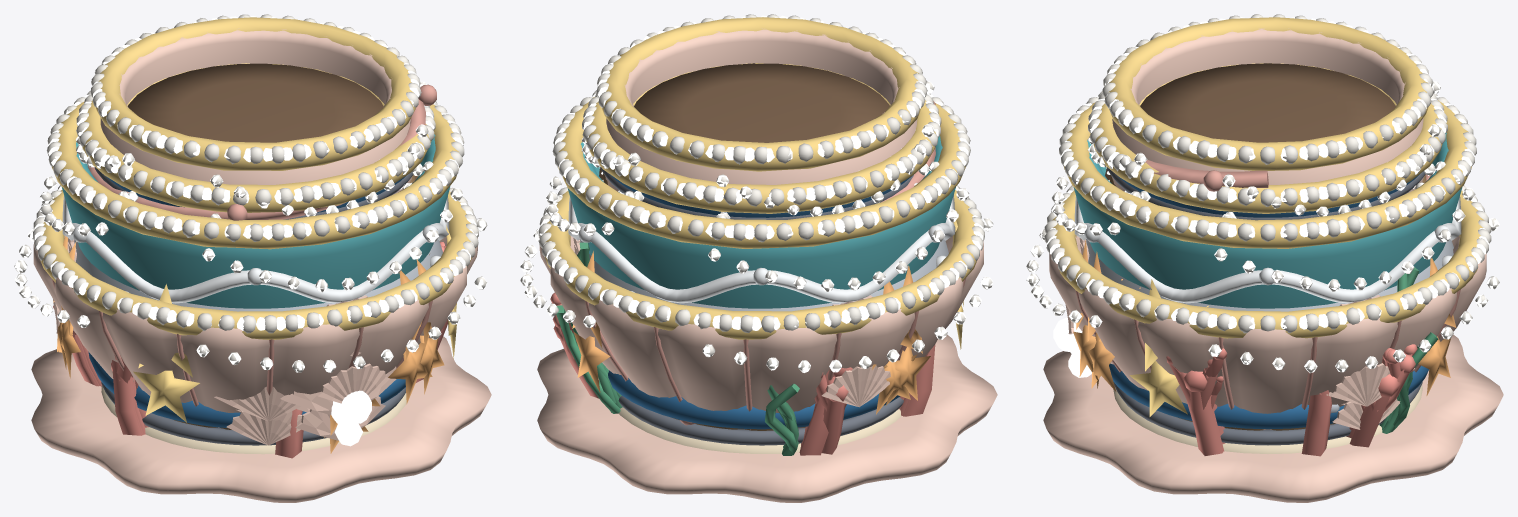
The model's file is chau-bien-ca.glb.
The picture shows the model from 3 angles, left to right: view 1: azimuth 30°, elevation 25°; view 2: azimuth 150°, elevation 25°; view 3: azimuth 270°, elevation 25°; orthographic projection.
Visible parts, largest first — view 1: ChauBien_6_Than, ChauBien_4_Than, ChauBien_1_Than, ChauBien_2_Than, ChauBien_2_Dat, ChauBien_1_Lv6, ChauBien_2_Lv6, ChauBien_4_Lv6, ChauBien_3_Lv6, ChauBien_1_Lv4, ChauBien_4_Lv4, ChauBien_4_Lv5 (+13 smaller); view 2: ChauBien_6_Than, ChauBien_4_Than, ChauBien_1_Than, ChauBien_2_Dat, ChauBien_2_Lv6, ChauBien_2_Than, ChauBien_4_Lv6, ChauBien_1_Lv6, ChauBien_3_Lv6, ChauBien_1_Lv4, ChauBien_1_Lv5, ChauBien_5_Than (+11 smaller); view 3: ChauBien_6_Than, ChauBien_4_Than, ChauBien_1_Than, ChauBien_2_Dat, ChauBien_2_Lv6, ChauBien_2_Than, ChauBien_1_Lv6, ChauBien_4_Lv6, ChauBien_3_Lv6, ChauBien_1_Lv4, ChauBien_1_Lv5, ChauBien_3_Than (+12 smaller).
Part boxes in pixels (x1,y1,x2,y2): ChauBien_6_Than: (31,239,491,502); ChauBien_4_Than: (61,134,450,427); ChauBien_1_Than: (33,236,477,427); ChauBien_2_Than: (87,28,436,220); ChauBien_2_Dat: (128,63,383,142); ChauBien_1_Lv6: (14,186,487,446); ChauBien_2_Lv6: (76,16,426,216); ChauBien_4_Lv6: (39,94,463,425); ChauBien_3_Lv6: (74,100,434,386); ChauBien_1_Lv4: (33,185,478,404); ChauBien_4_Lv4: (47,91,464,241); ChauBien_4_Lv5: (40,91,464,437); ChauBien_6_Than: (537,239,997,502); ChauBien_4_Than: (568,136,955,429); ChauBien_1_Than: (539,236,983,429); ChauBien_2_Dat: (634,63,889,142); ChauBien_2_Lv6: (581,15,934,216); ChauBien_2_Than: (605,28,935,425); ChauBien_4_Lv6: (545,93,969,405); ChauBien_1_Lv6: (520,186,993,403); ChauBien_3_Lv6: (568,96,939,414); ChauBien_1_Lv4: (538,185,984,405); ChauBien_1_Lv5: (520,187,993,455); ChauBien_5_Than: (600,166,913,445); ChauBien_6_Than: (1043,239,1503,502); ChauBien_4_Than: (1073,132,1462,429); ChauBien_1_Than: (1049,236,1486,429); ChauBien_2_Dat: (1140,63,1395,142); ChauBien_2_Lv6: (1088,17,1440,438); ChauBien_2_Than: (1111,28,1430,193); ChauBien_1_Lv6: (1026,190,1499,416); ChauBien_4_Lv6: (1051,96,1475,444); ChauBien_3_Lv6: (1089,98,1446,444); ChauBien_1_Lv4: (1045,185,1490,395); ChauBien_1_Lv5: (1026,187,1499,430); ChauBien_3_Than: (1113,174,1422,456).
Bounding box in the file's own units: 1.34 × 1 × 1.32.
